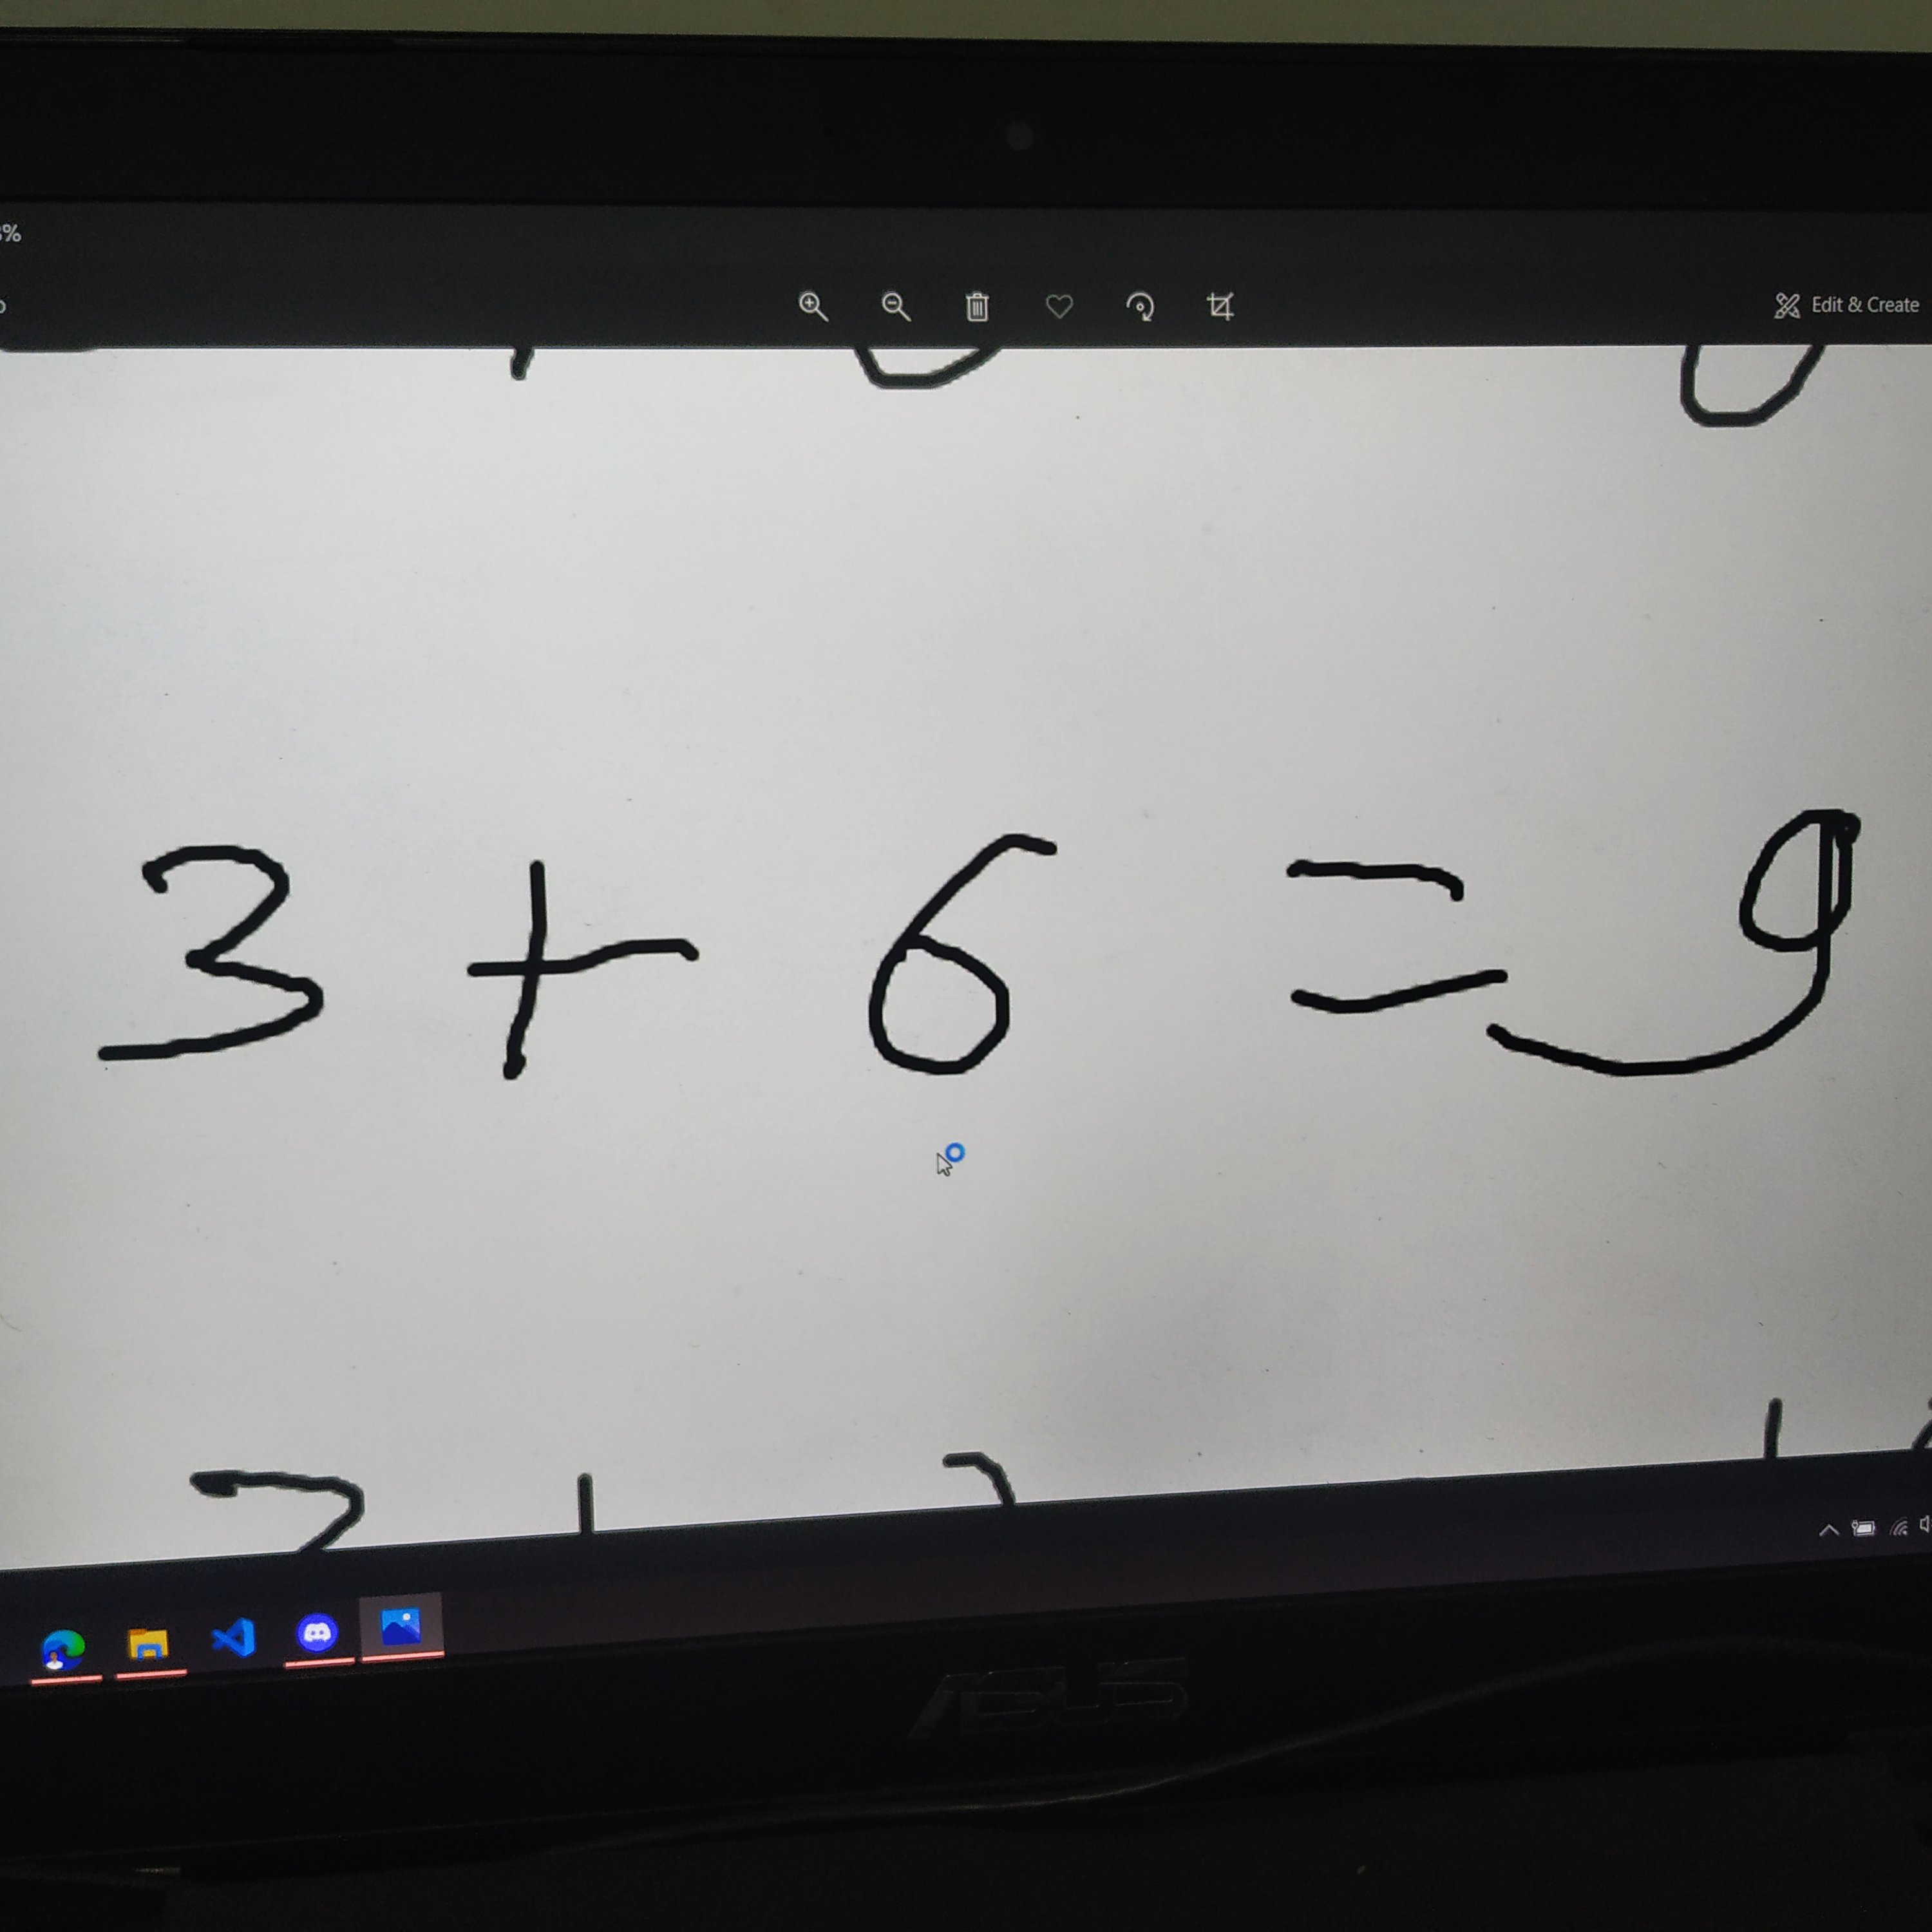equal: (1228, 827, 1540, 1018)
num3: (82, 829, 360, 1078)
num6: (857, 816, 1074, 1092)
num9: (1477, 764, 1872, 1107)
sum: (445, 851, 719, 1099)
